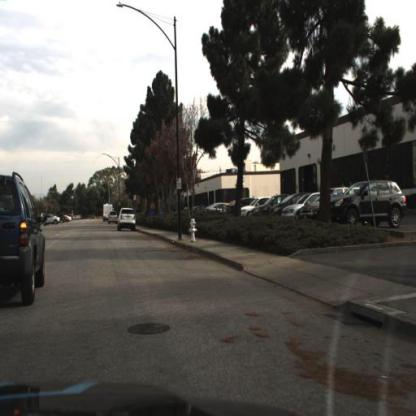car: (1, 174, 48, 314), (327, 179, 407, 229), (300, 186, 350, 221), (250, 193, 287, 218), (283, 199, 314, 222), (115, 206, 138, 232), (42, 214, 62, 228)
